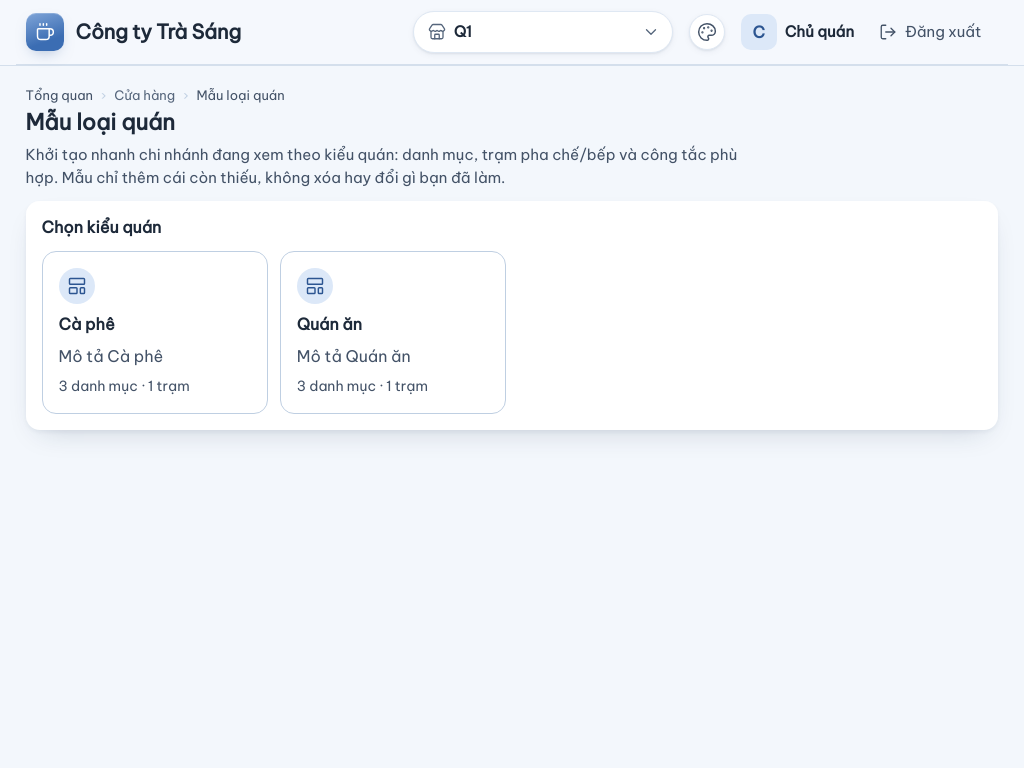
Test: the shop template page › says there is nothing to add on a branch that has it all
Expected: the dropdown named "Chi nhánh đang xem" is shown, [413,11,673,53]
Click the radio button labelled "Cà phê Mô tả Cà phê 3 danh mục · 1 trạm" at coordinates (155, 332), box [42,251,268,414]
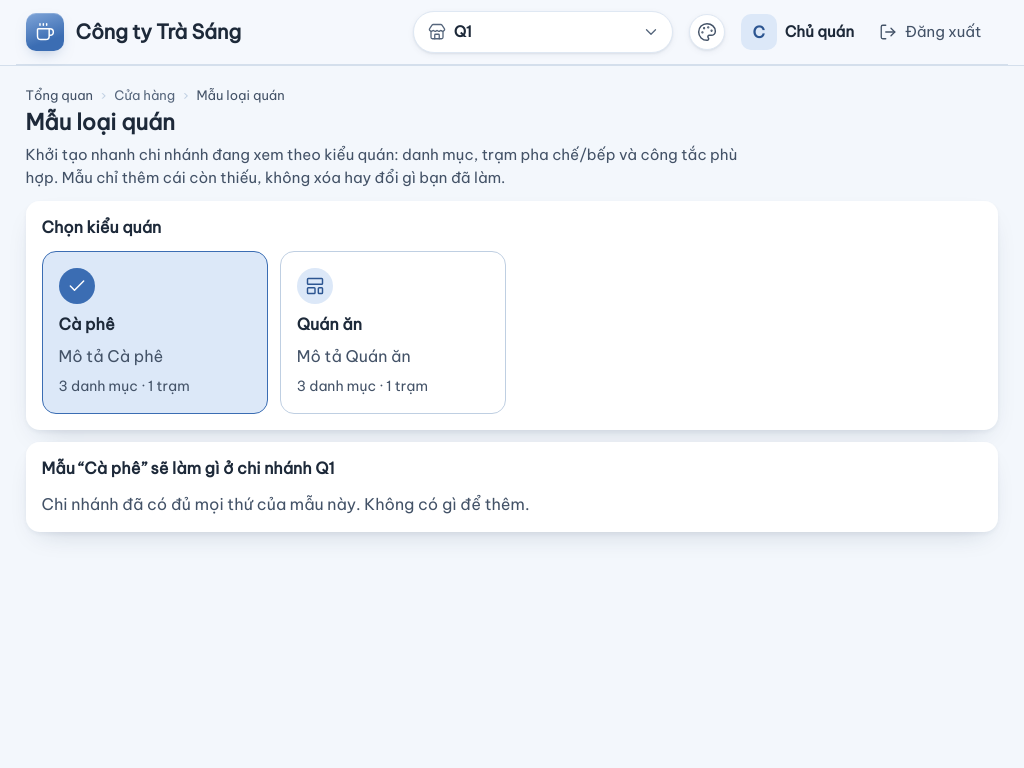
Result: the text "Chi nhánh đã có đủ mọi thứ của mẫu này. Không có gì để thêm." is shown at [42,494,530,514]
